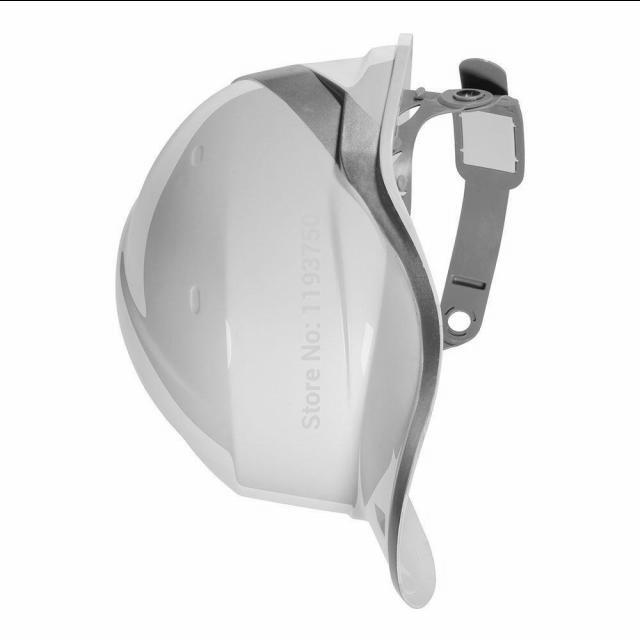construction helmet: (115, 30, 528, 609)
